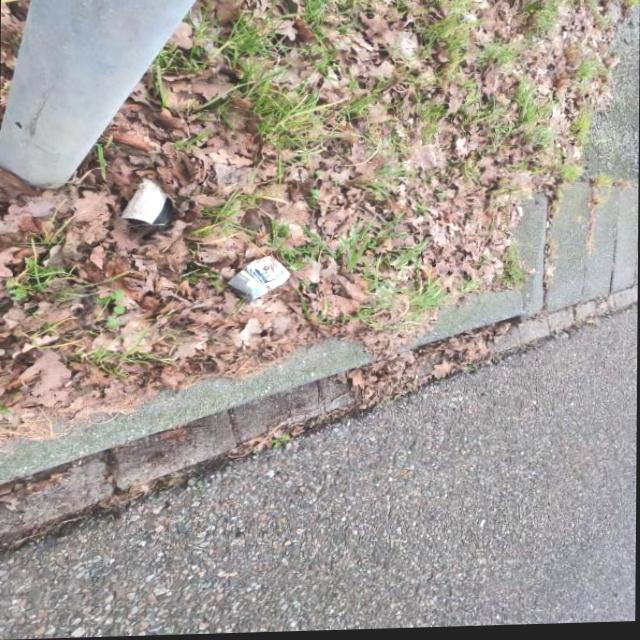Cup: (118, 176, 174, 230)
Paper: (225, 256, 291, 308)
